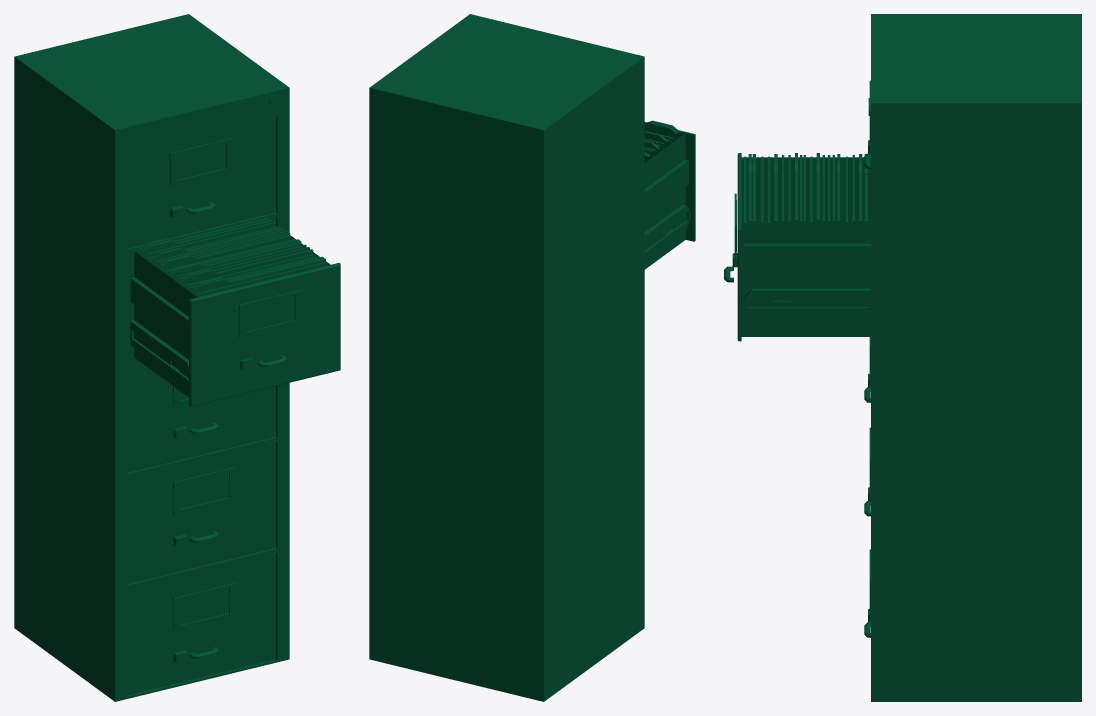
The model's file is tallOpenCabinet.fbx.
3 renders of one model, left to right at view 1: azimuth 30°, elevation 25°; view 2: azimuth 150°, elevation 25°; view 3: azimuth 270°, elevation 25°, orthographic. The views are drawn at different scales.
Parts seen in each view (by area): view 1: tallopen; view 2: tallopen; view 3: tallopen.
Part boxes in pixels (x1=…): tallopen: x1=14, y1=14, x2=340, y2=701; tallopen: x1=369, y1=14, x2=695, y2=701; tallopen: x1=724, y1=14, x2=1081, y2=701.
Size of the model in its own units: 49.41 by 155 by 83.8.
